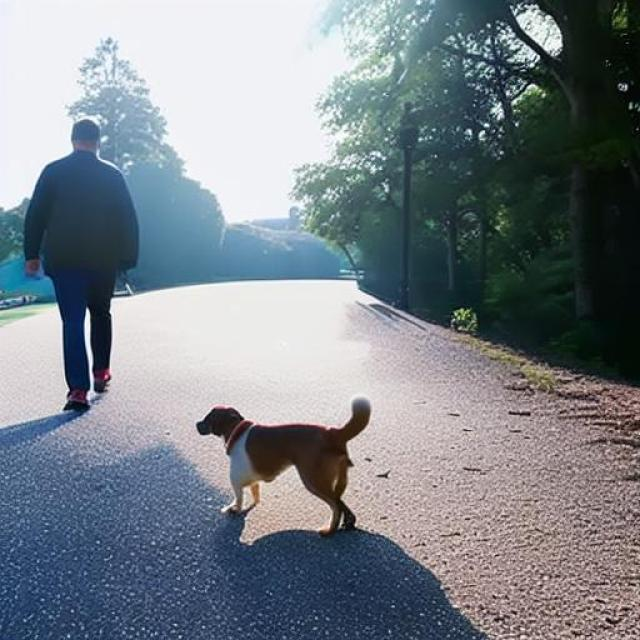Unleashed_Dog: (54, 263, 372, 538)
